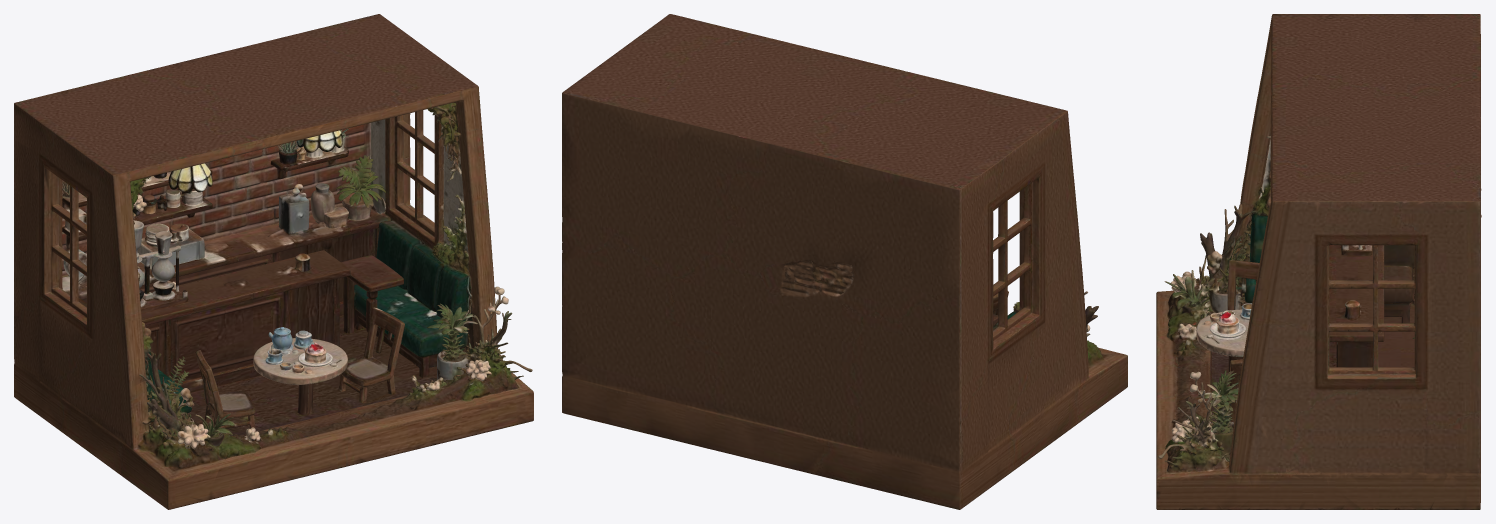
File: cafe.glb
3 renders of one model, left to right at view 1: azimuth 30°, elevation 25°; view 2: azimuth 150°, elevation 25°; view 3: azimuth 270°, elevation 25°, orthographic. The views are drawn at different scales.
Size of the model in its own units: 1.9 by 1.46 by 1.39.
1 material, 1 textured.
